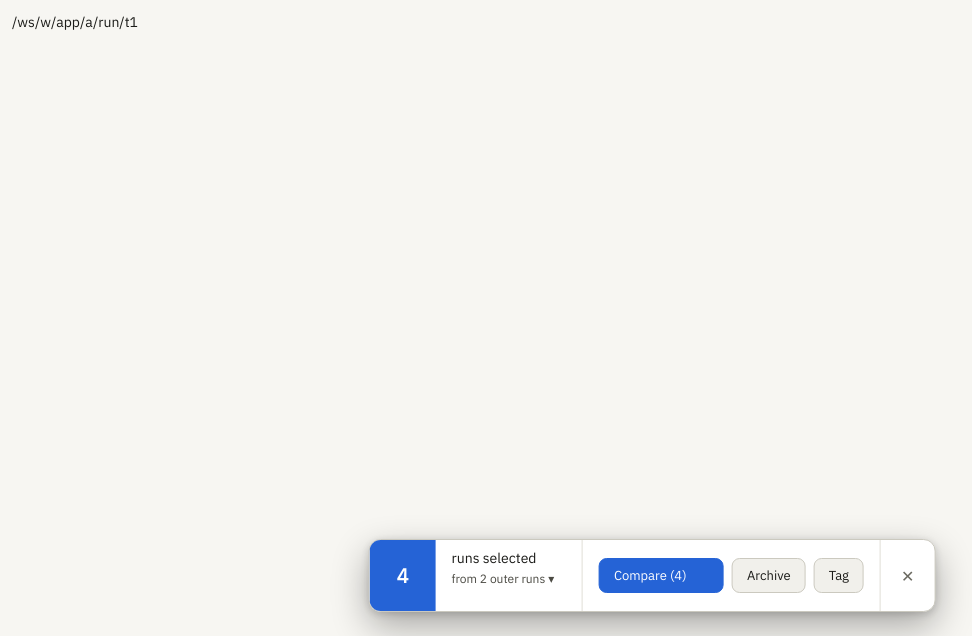
the expanded tray › lists the picks grouped by job, linked to their run pages
What coordinates should you click on to do the following:
click the button "from 2 outer runs ▾"
I would click on:
 (503, 578)
Its box is [452,571,554,586].
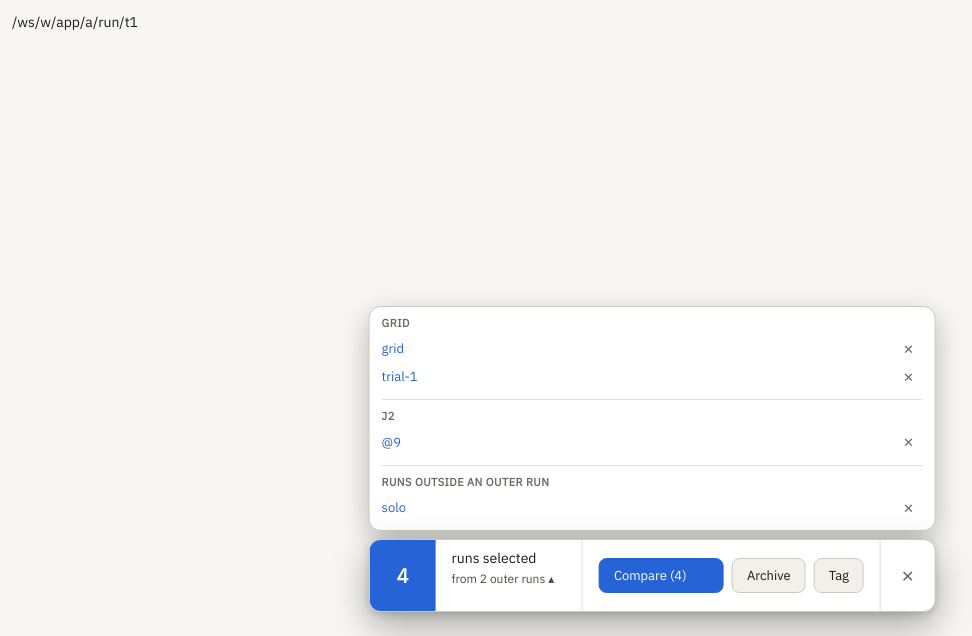
Check: the button "from 2 outer runs ▴" is expanded, box [452,571,554,586]
